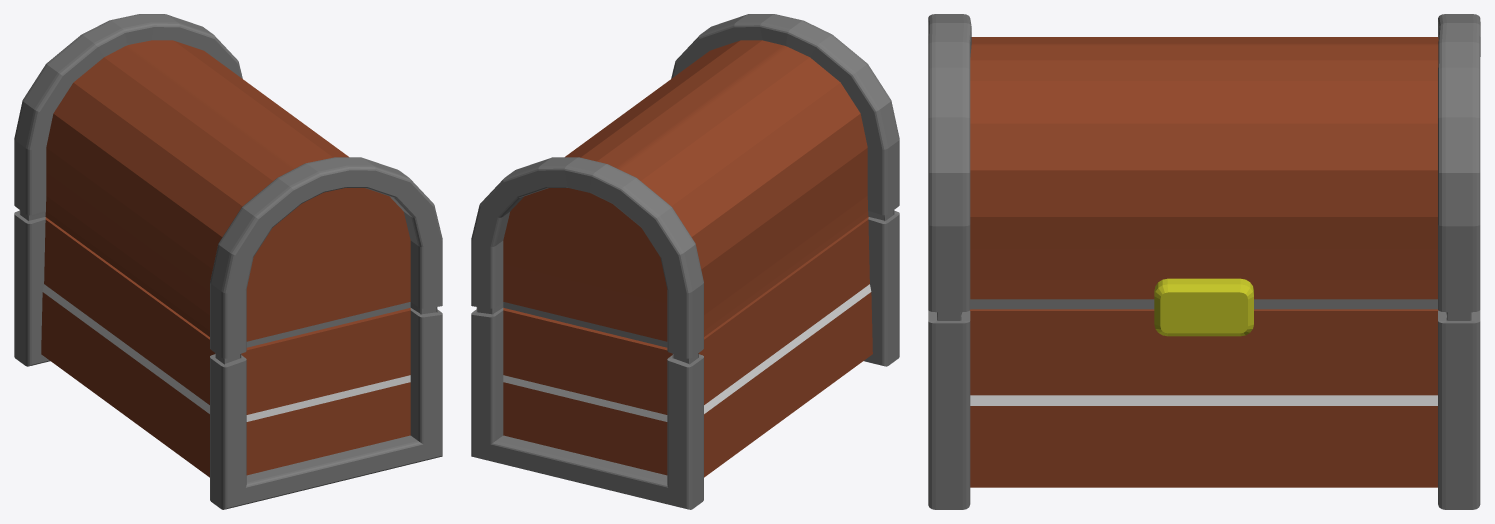
The model's file is coffre.glb.
The picture shows the model from 3 angles, left to right: view 1: azimuth 30°, elevation 25°; view 2: azimuth 150°, elevation 25°; view 3: azimuth 270°, elevation 25°; orthographic projection. The views are drawn at different scales.
Visible parts, largest first — view 1: Cube; view 2: Cube; view 3: Cube, Cube.001.
Boxes of the visible parts, x1,y1,x2,y2 form: Cube: (14,14,442,509); Cube: (471,14,899,509); Cube: (928,14,1480,509); Cube.001: (1154,278,1253,336).
Bounding box in the file's own units: 0.6591 × 0.8974 × 1.1.
